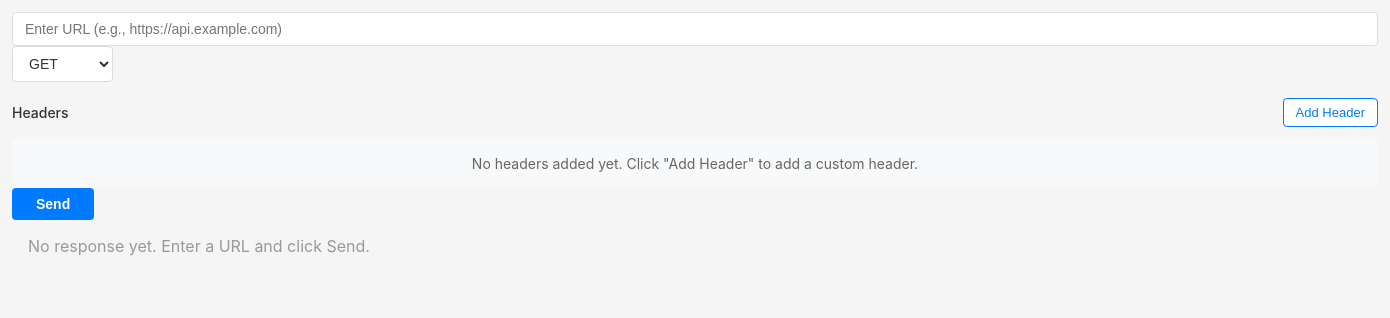
Integration: Custom Headers Workflow › should add multiple custom headers to request
Note: Enter URL
Type "https://api.example.com" into the field with placeholder "Enter URL (e.g., https://api.example.com)" at (695, 29), box [12,12,1378,46]
Note: Add first header
Click the button "Add Header" at (1330, 112), box [1283,98,1378,127]
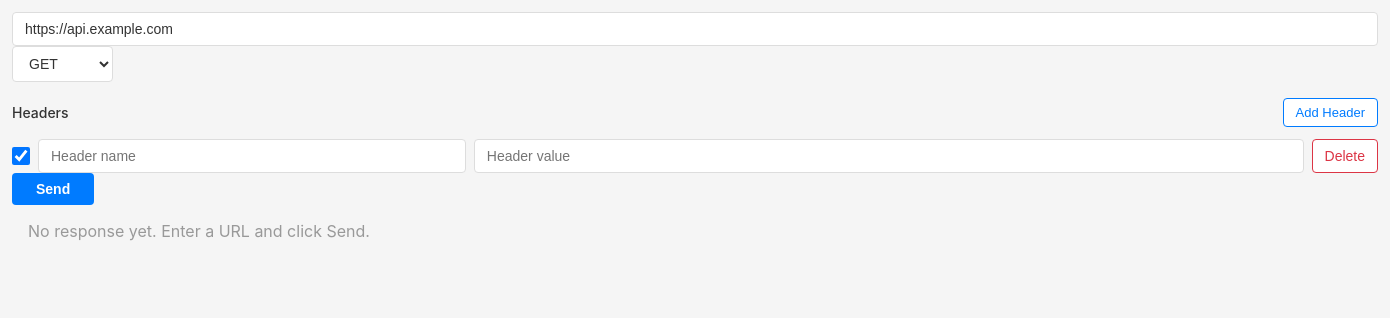
Expected: the field with placeholder "Header name" is shown
Type "X-API-Key" into the field with placeholder "Header name" at (252, 156), box [38,139,466,173]
Type "secret-key-123" into the field with placeholder "Header value" at (889, 156), box [474,139,1304,173]
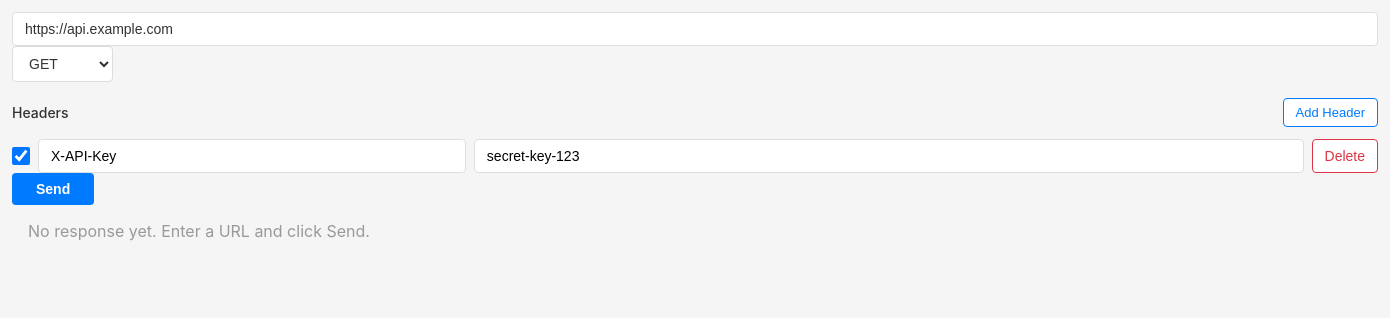
Note: Add second header
Click the button "Add Header" at (1330, 112), box [1283,98,1378,127]
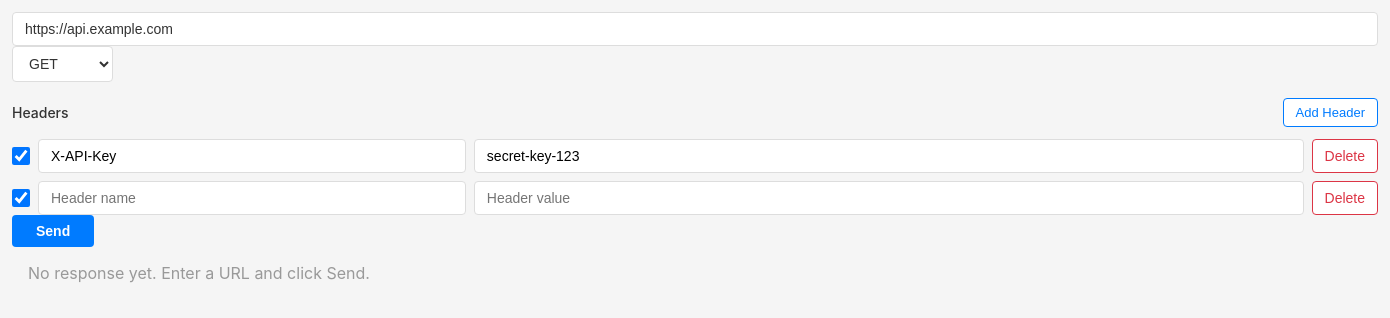
Expected: the number of fields with placeholder "Header name" is 2
Type "X-Request-ID" into the field with placeholder "Header name" at (252, 198), box [38,181,466,215]
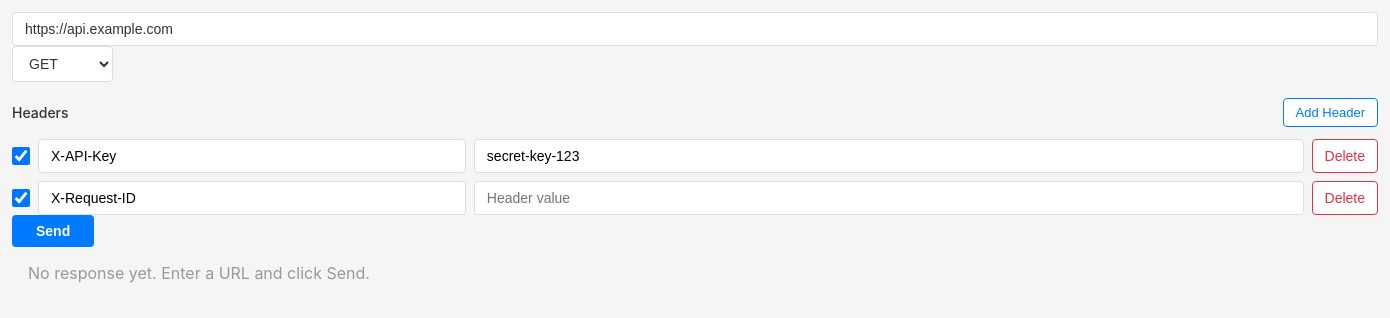
Type "req-abc-123" into the field with placeholder "Header value" at (889, 198), box [474,181,1304,215]
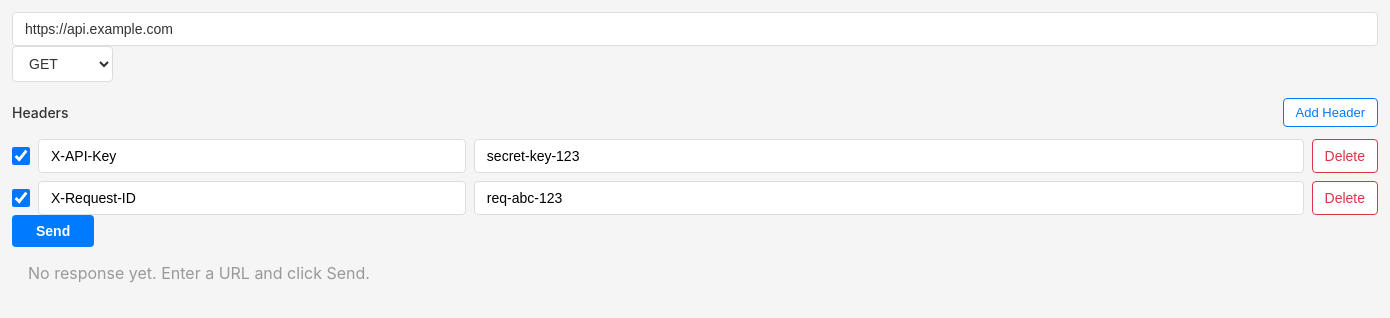
Note: Send request
Click the button "Send" at (53, 231), box [12,215,94,247]
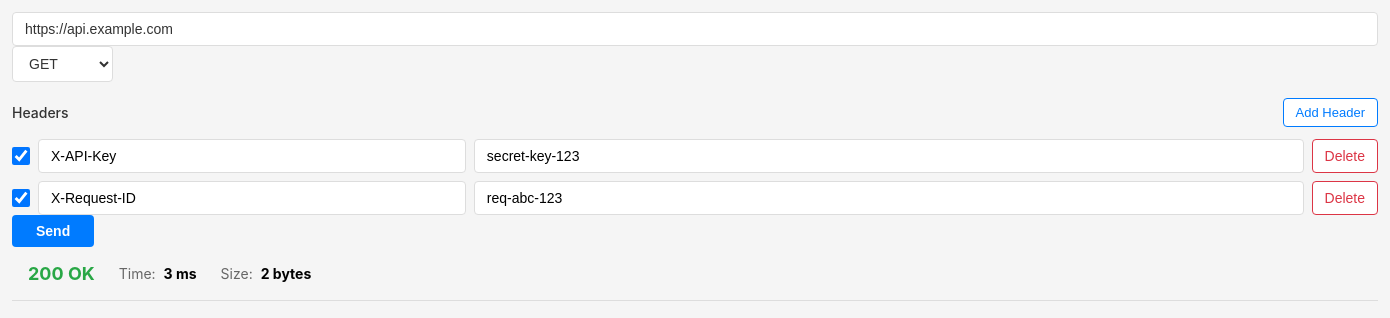
Expected: the text "200 OK" is shown, [28,263,95,284]
